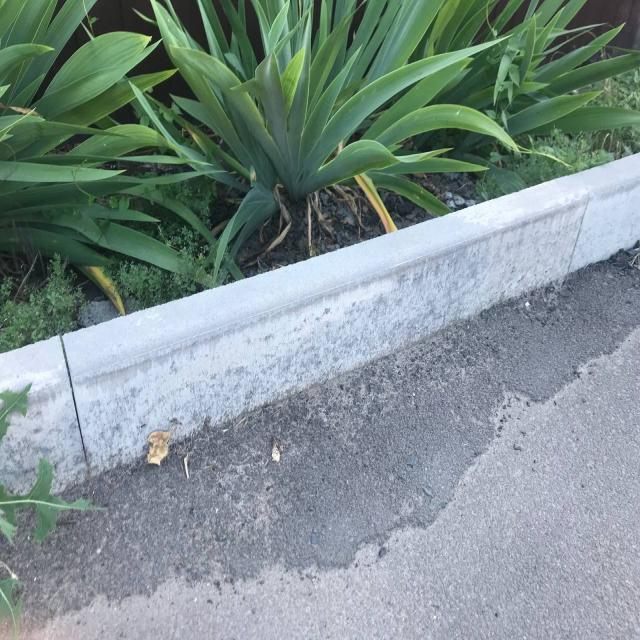bump: (0, 254, 352, 518), (324, 152, 638, 362)
